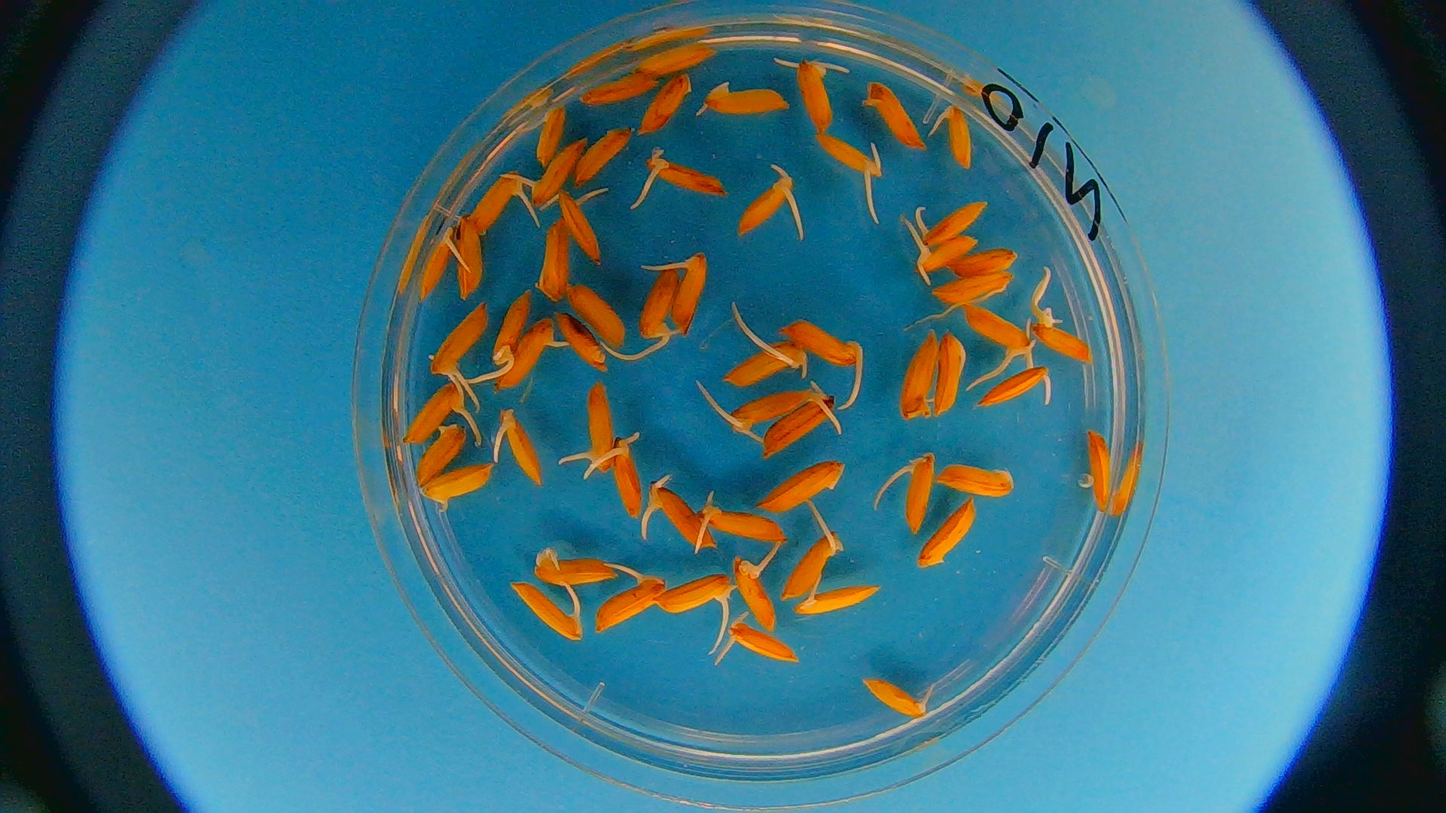no: (753, 459, 846, 515), (862, 79, 928, 148), (917, 498, 978, 568), (566, 283, 627, 348), (551, 311, 612, 376), (633, 72, 691, 140), (899, 330, 935, 422), (575, 128, 630, 186), (638, 38, 719, 77), (417, 424, 466, 485), (703, 81, 788, 116), (936, 464, 1014, 502), (577, 70, 660, 105), (538, 216, 570, 303), (454, 214, 487, 297), (938, 330, 967, 416), (945, 247, 1022, 279), (1084, 428, 1112, 511), (533, 107, 566, 173)
yes: (593, 568, 664, 633), (647, 480, 708, 555), (763, 394, 835, 457), (754, 458, 846, 507), (509, 582, 584, 640), (496, 317, 554, 389), (496, 405, 547, 486), (523, 139, 581, 209), (420, 460, 493, 515), (782, 531, 842, 597), (737, 171, 796, 237), (433, 303, 488, 373), (642, 153, 725, 199), (469, 172, 523, 241), (669, 246, 711, 334), (725, 389, 819, 428), (965, 303, 1031, 358), (404, 382, 468, 437), (556, 186, 601, 263), (703, 504, 789, 544), (736, 553, 779, 632), (725, 344, 807, 385), (785, 321, 854, 369), (890, 453, 932, 531), (639, 266, 682, 341), (728, 622, 798, 668), (791, 582, 883, 617), (919, 199, 987, 246), (816, 131, 881, 180), (654, 574, 737, 612), (582, 381, 617, 470), (532, 550, 616, 587), (909, 235, 978, 280), (491, 288, 530, 367), (416, 228, 458, 300), (861, 675, 930, 718), (978, 366, 1045, 410), (1029, 318, 1092, 364), (612, 431, 645, 513), (796, 62, 832, 135), (936, 273, 1013, 305), (940, 107, 975, 172)
